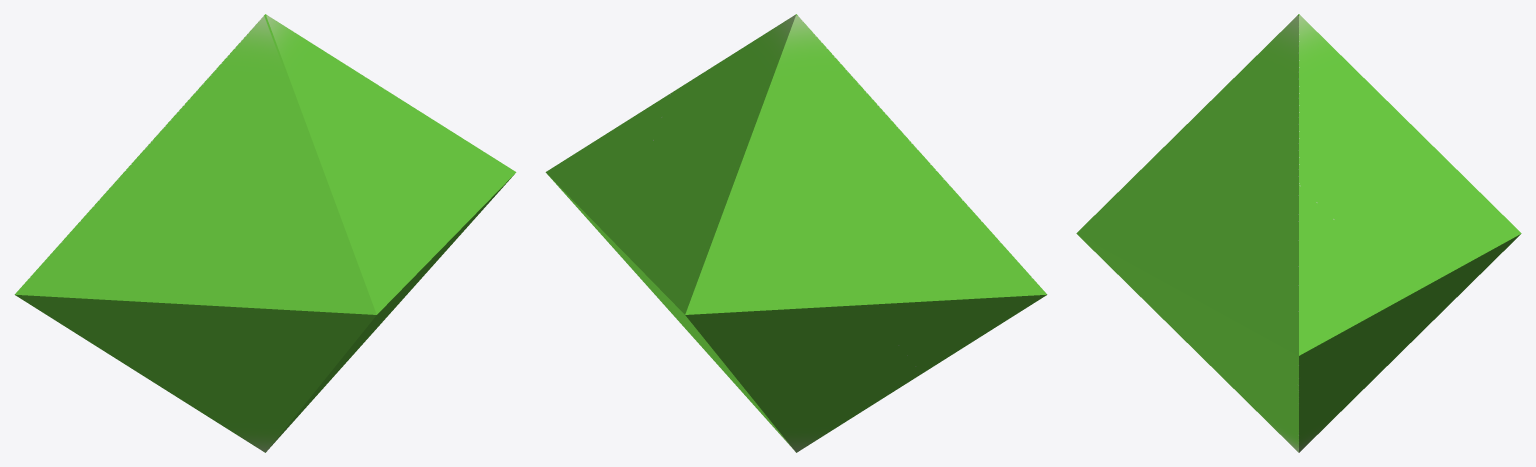
The model's file is head.obj.
3 renders of one model, left to right at view 1: azimuth 30°, elevation 25°; view 2: azimuth 150°, elevation 25°; view 3: azimuth 270°, elevation 25°, orthographic.
Parts seen in each view (by area): view 1: 頭_立方体.009; view 2: 頭_立方体.009; view 3: 頭_立方体.009.
Part boxes in pixels (x1,y1,x2,y2): 頭_立方体.009: [14, 14, 516, 452]; 頭_立方体.009: [545, 14, 1047, 452]; 頭_立方体.009: [1076, 14, 1521, 452].
Bounding box in the file's own units: 1.58 × 1.32 × 1.21.
